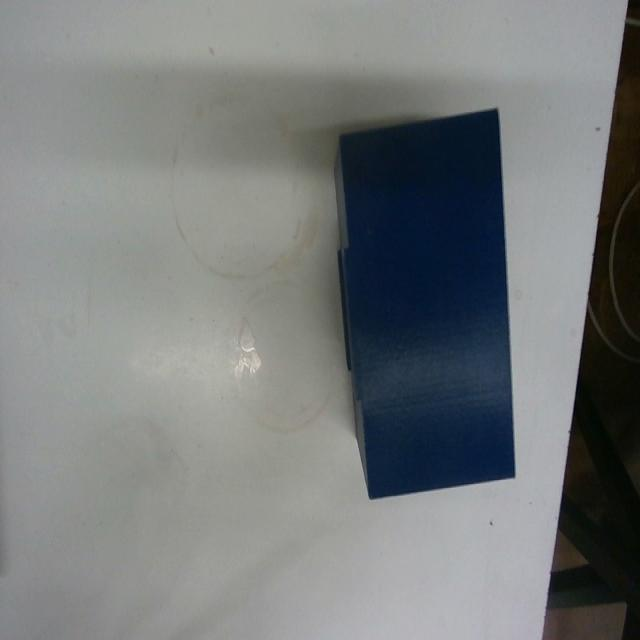Blue Cuboid: (331, 104, 517, 500)
